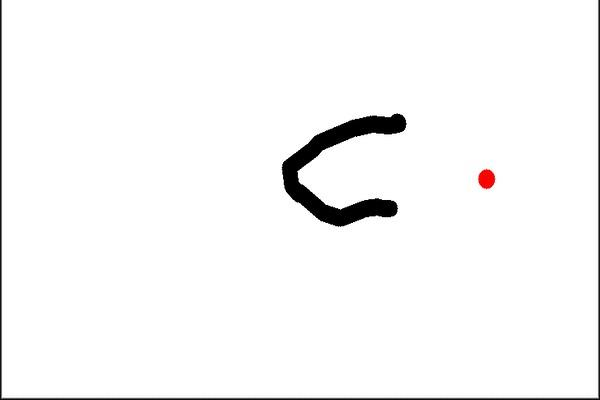C: (276, 99, 410, 230)
